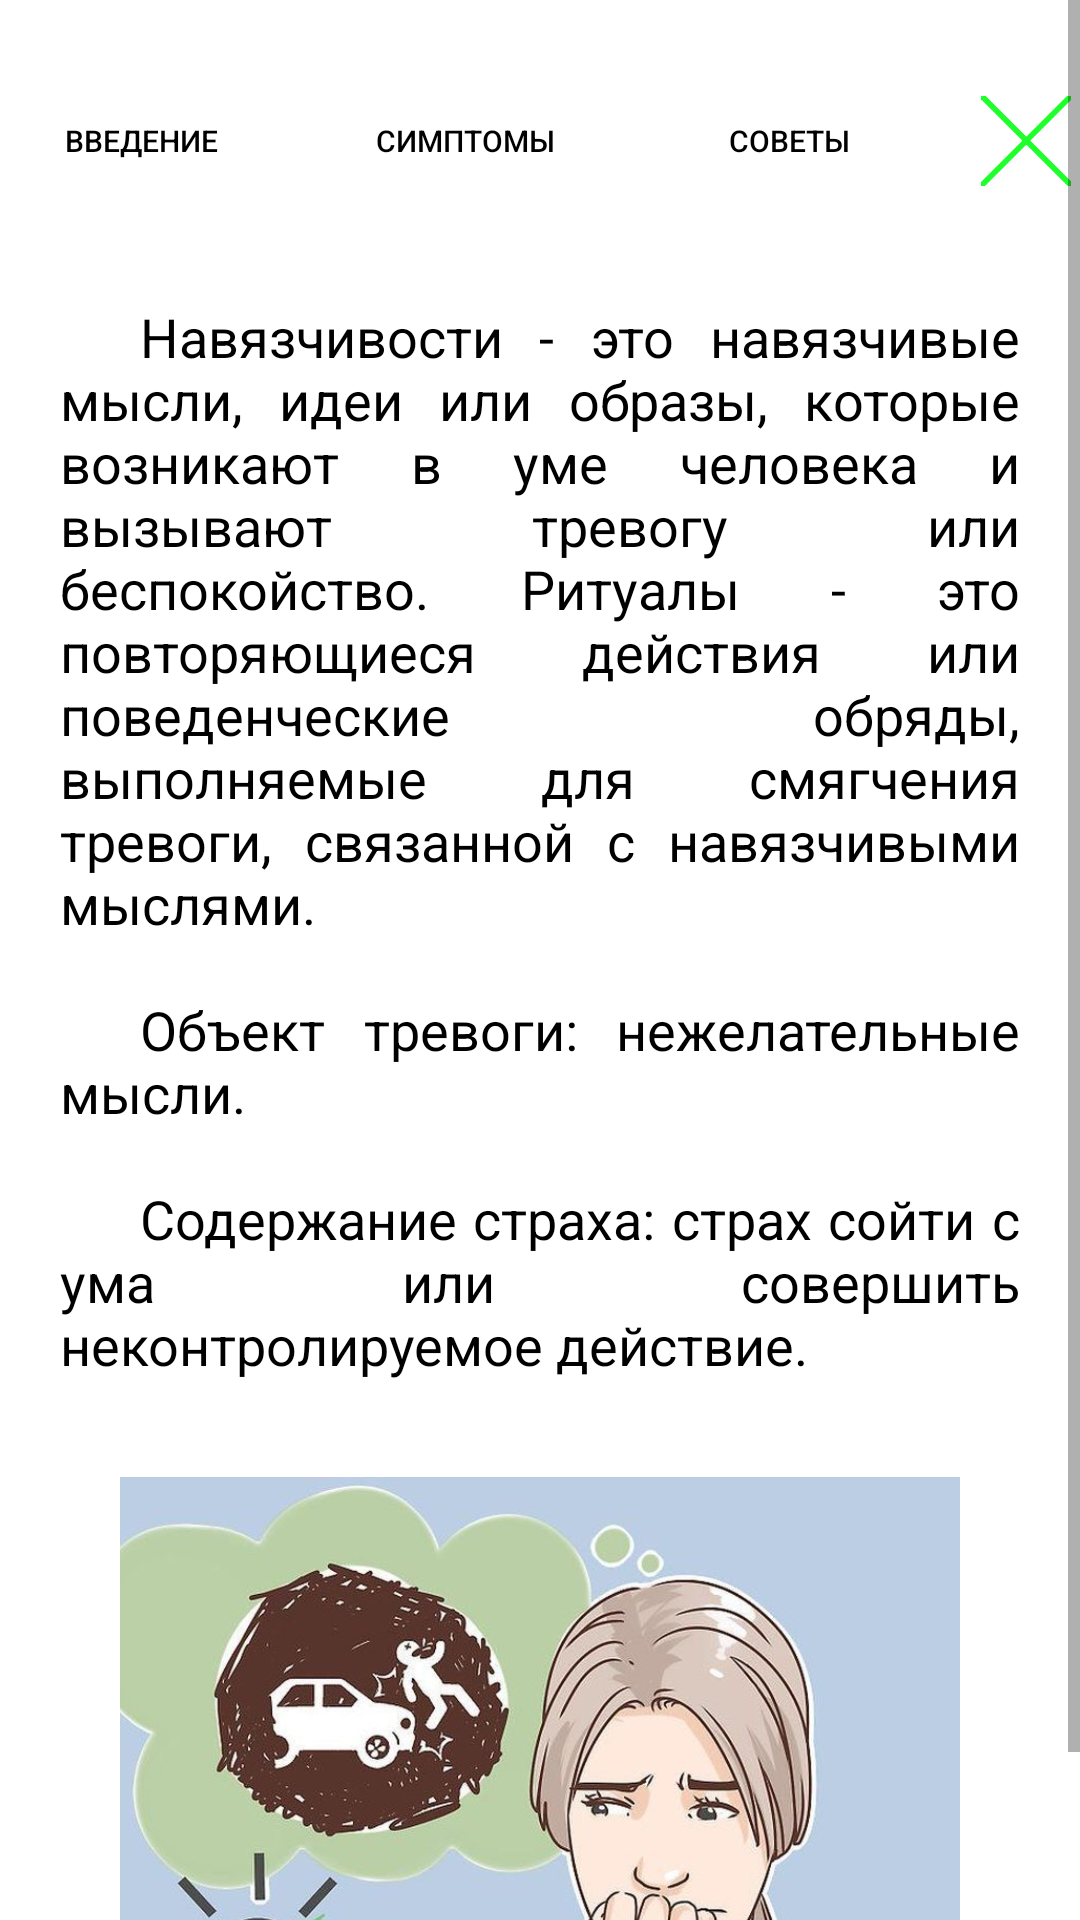

Icon bounding boxes for this 1080x1920 phone screenshot, format (x1, y1, x2, y2):
close: (981, 96, 1071, 186)
